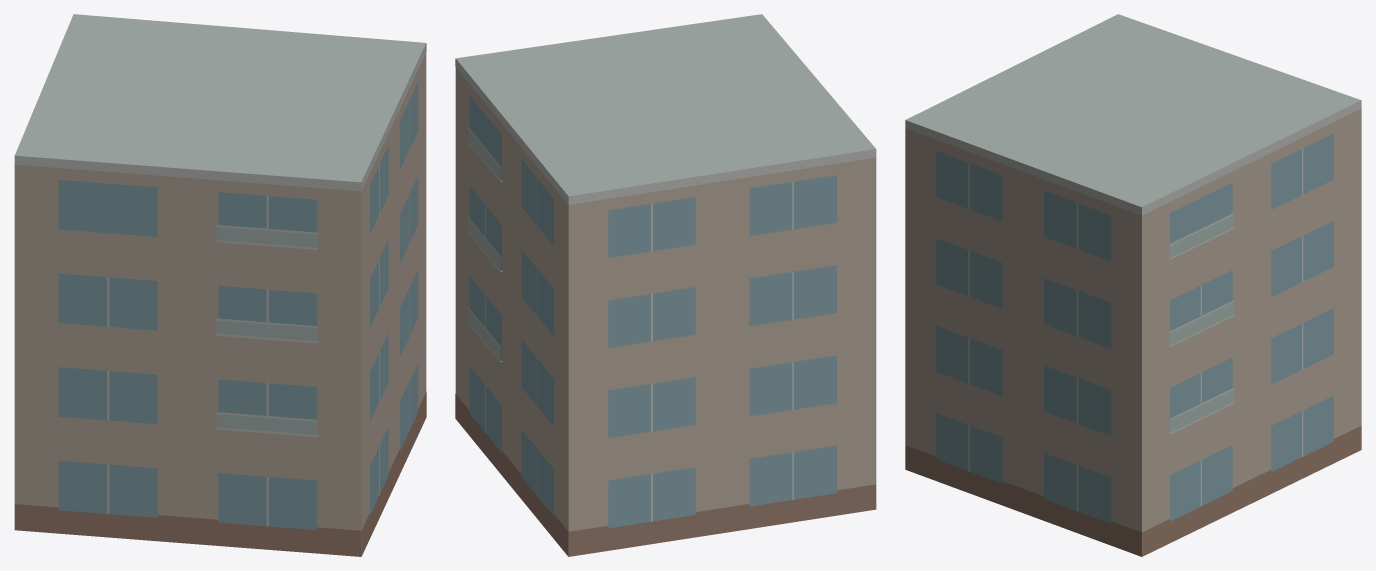
Rendered from survey-upis-32674160.glb.
The picture shows the model from 3 angles, left to right: view 1: azimuth 30°, elevation 25°; view 2: azimuth 150°, elevation 25°; view 3: azimuth 270°, elevation 25°; orthographic projection. The views are drawn at different scales.
Visible parts, largest first — view 1: survey-upis-32674160.tmp; view 2: survey-upis-32674160.tmp; view 3: survey-upis-32674160.tmp.
Boxes of the visible parts, box(x1,y1,x2,y2) form: survey-upis-32674160.tmp: box(14, 14, 426, 556); survey-upis-32674160.tmp: box(455, 14, 876, 556); survey-upis-32674160.tmp: box(905, 14, 1361, 556).
Size of the model in its own units: 12.16 by 10.25 by 12.14.
